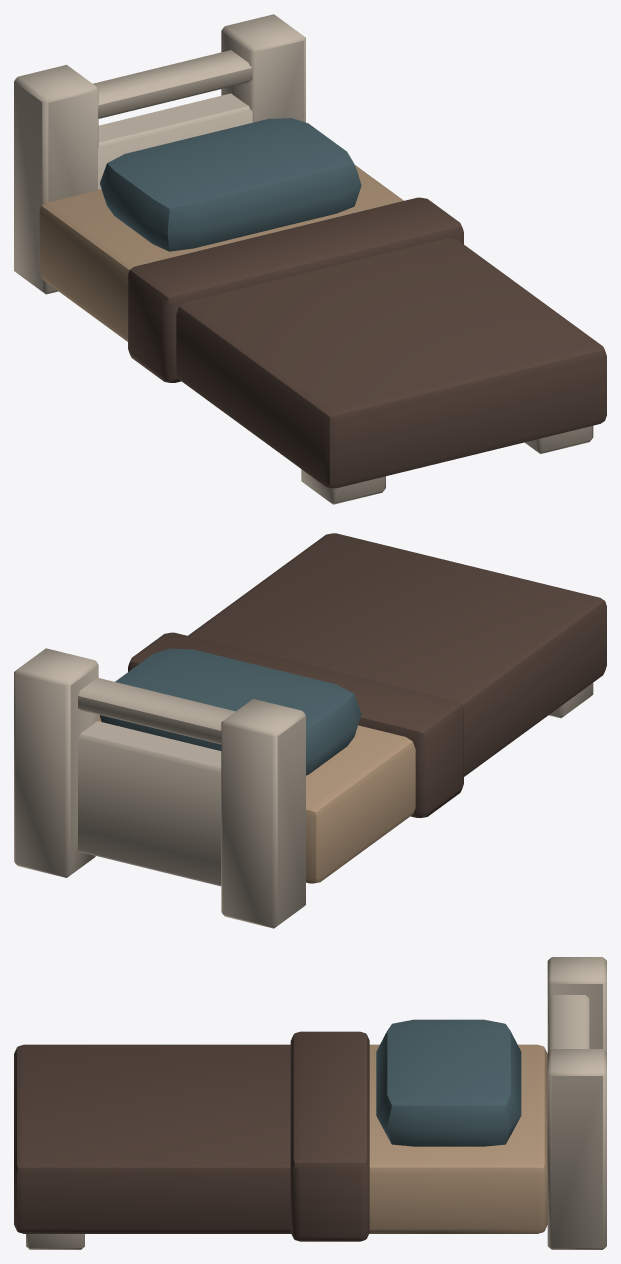
Rendered from bed_single_A.obj.
3 views of the same model, one above another, from view 1: azimuth 30°, elevation 25°; view 2: azimuth 150°, elevation 25°; view 3: azimuth 270°, elevation 25° (orthographic). The views are drawn at different scales.
Parts seen in each view (by area): view 1: bed_single_A_Cube.039; view 2: bed_single_A_Cube.039; view 3: bed_single_A_Cube.039.
Boxes of the visible parts, box(x1,y1,x2,y2) form: bed_single_A_Cube.039: box(14, 14, 606, 504); bed_single_A_Cube.039: box(14, 533, 606, 928); bed_single_A_Cube.039: box(14, 957, 606, 1249).
Bounding box in the file's own units: 1.6 × 1 × 3.
1 material, 1 textured.
